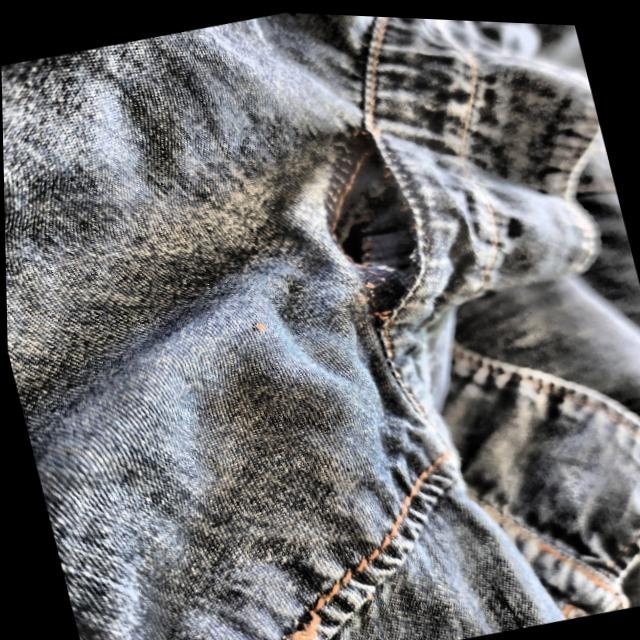seam: (280, 104, 460, 348)
